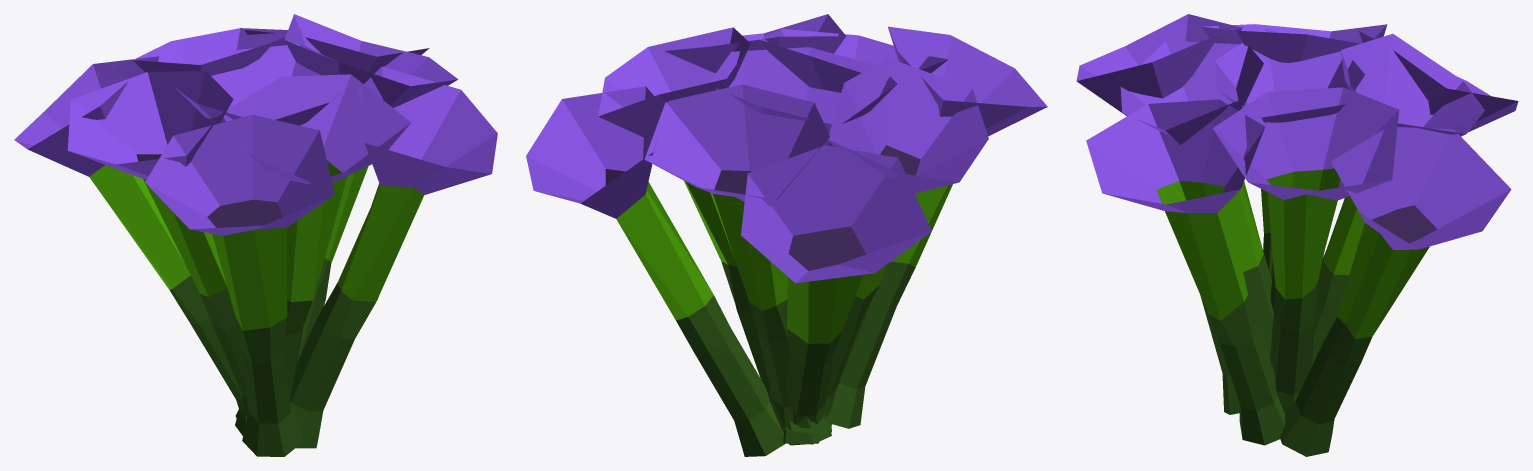
The model's file is FlowerBunch.fbx.
3 views of the same model, side by side, from view 1: azimuth 30°, elevation 25°; view 2: azimuth 150°, elevation 25°; view 3: azimuth 270°, elevation 25° (orthographic). The views are drawn at different scales.
Parts seen in each view (by area): view 1: Cylinder; view 2: Cylinder; view 3: Cylinder.
Part boxes in pixels (x1,y1,x2,y2): Cylinder: [14, 14, 497, 456]; Cylinder: [526, 14, 1047, 456]; Cylinder: [1076, 14, 1518, 456].
Size of the model in its own units: 147 by 137 by 146.
